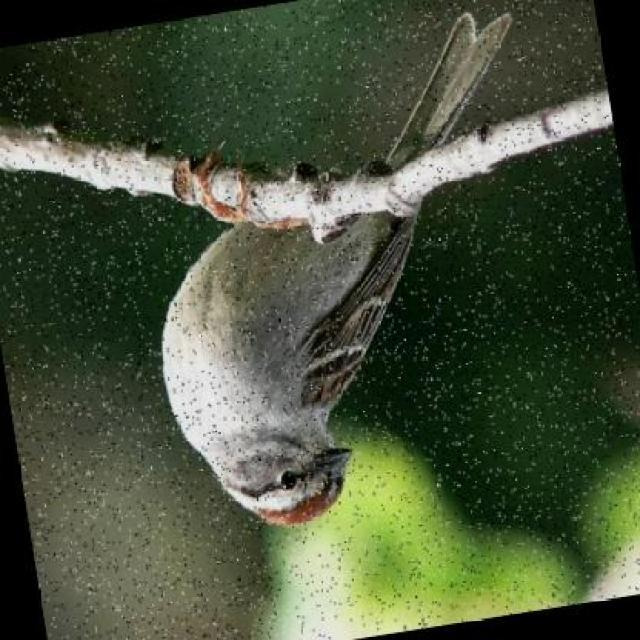Bird: (159, 10, 515, 530)
